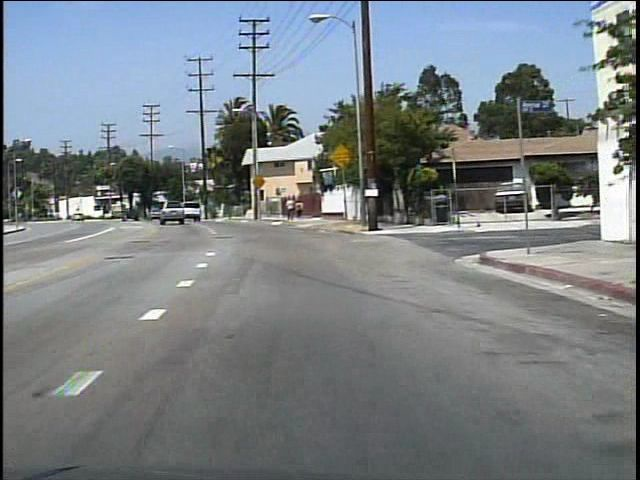person: (284, 196, 295, 222), (294, 198, 305, 222)
